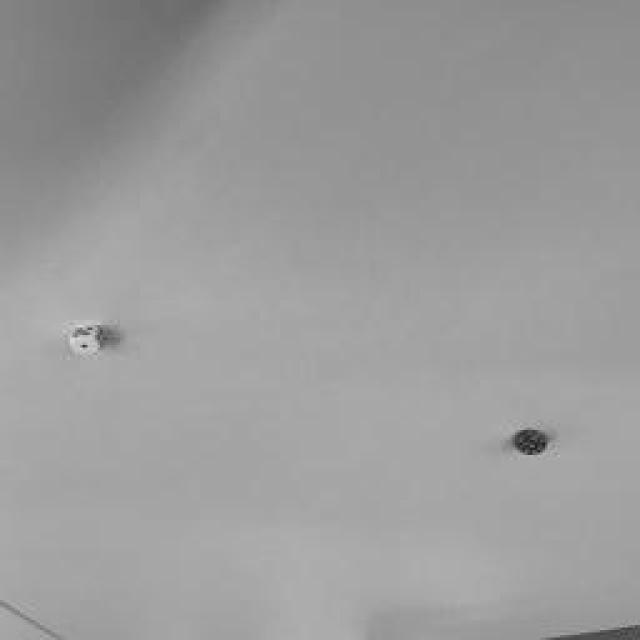dice_1: (70, 336, 100, 354)
dice_4: (519, 443, 546, 455)
